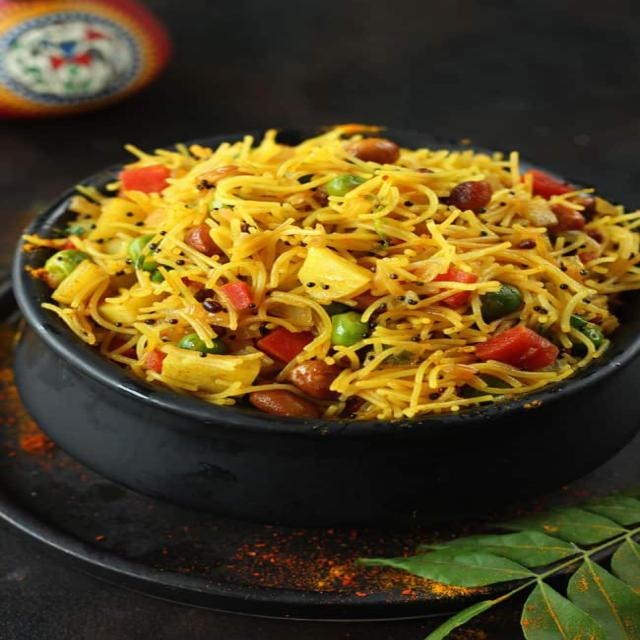POHA: (29, 127, 635, 415)
